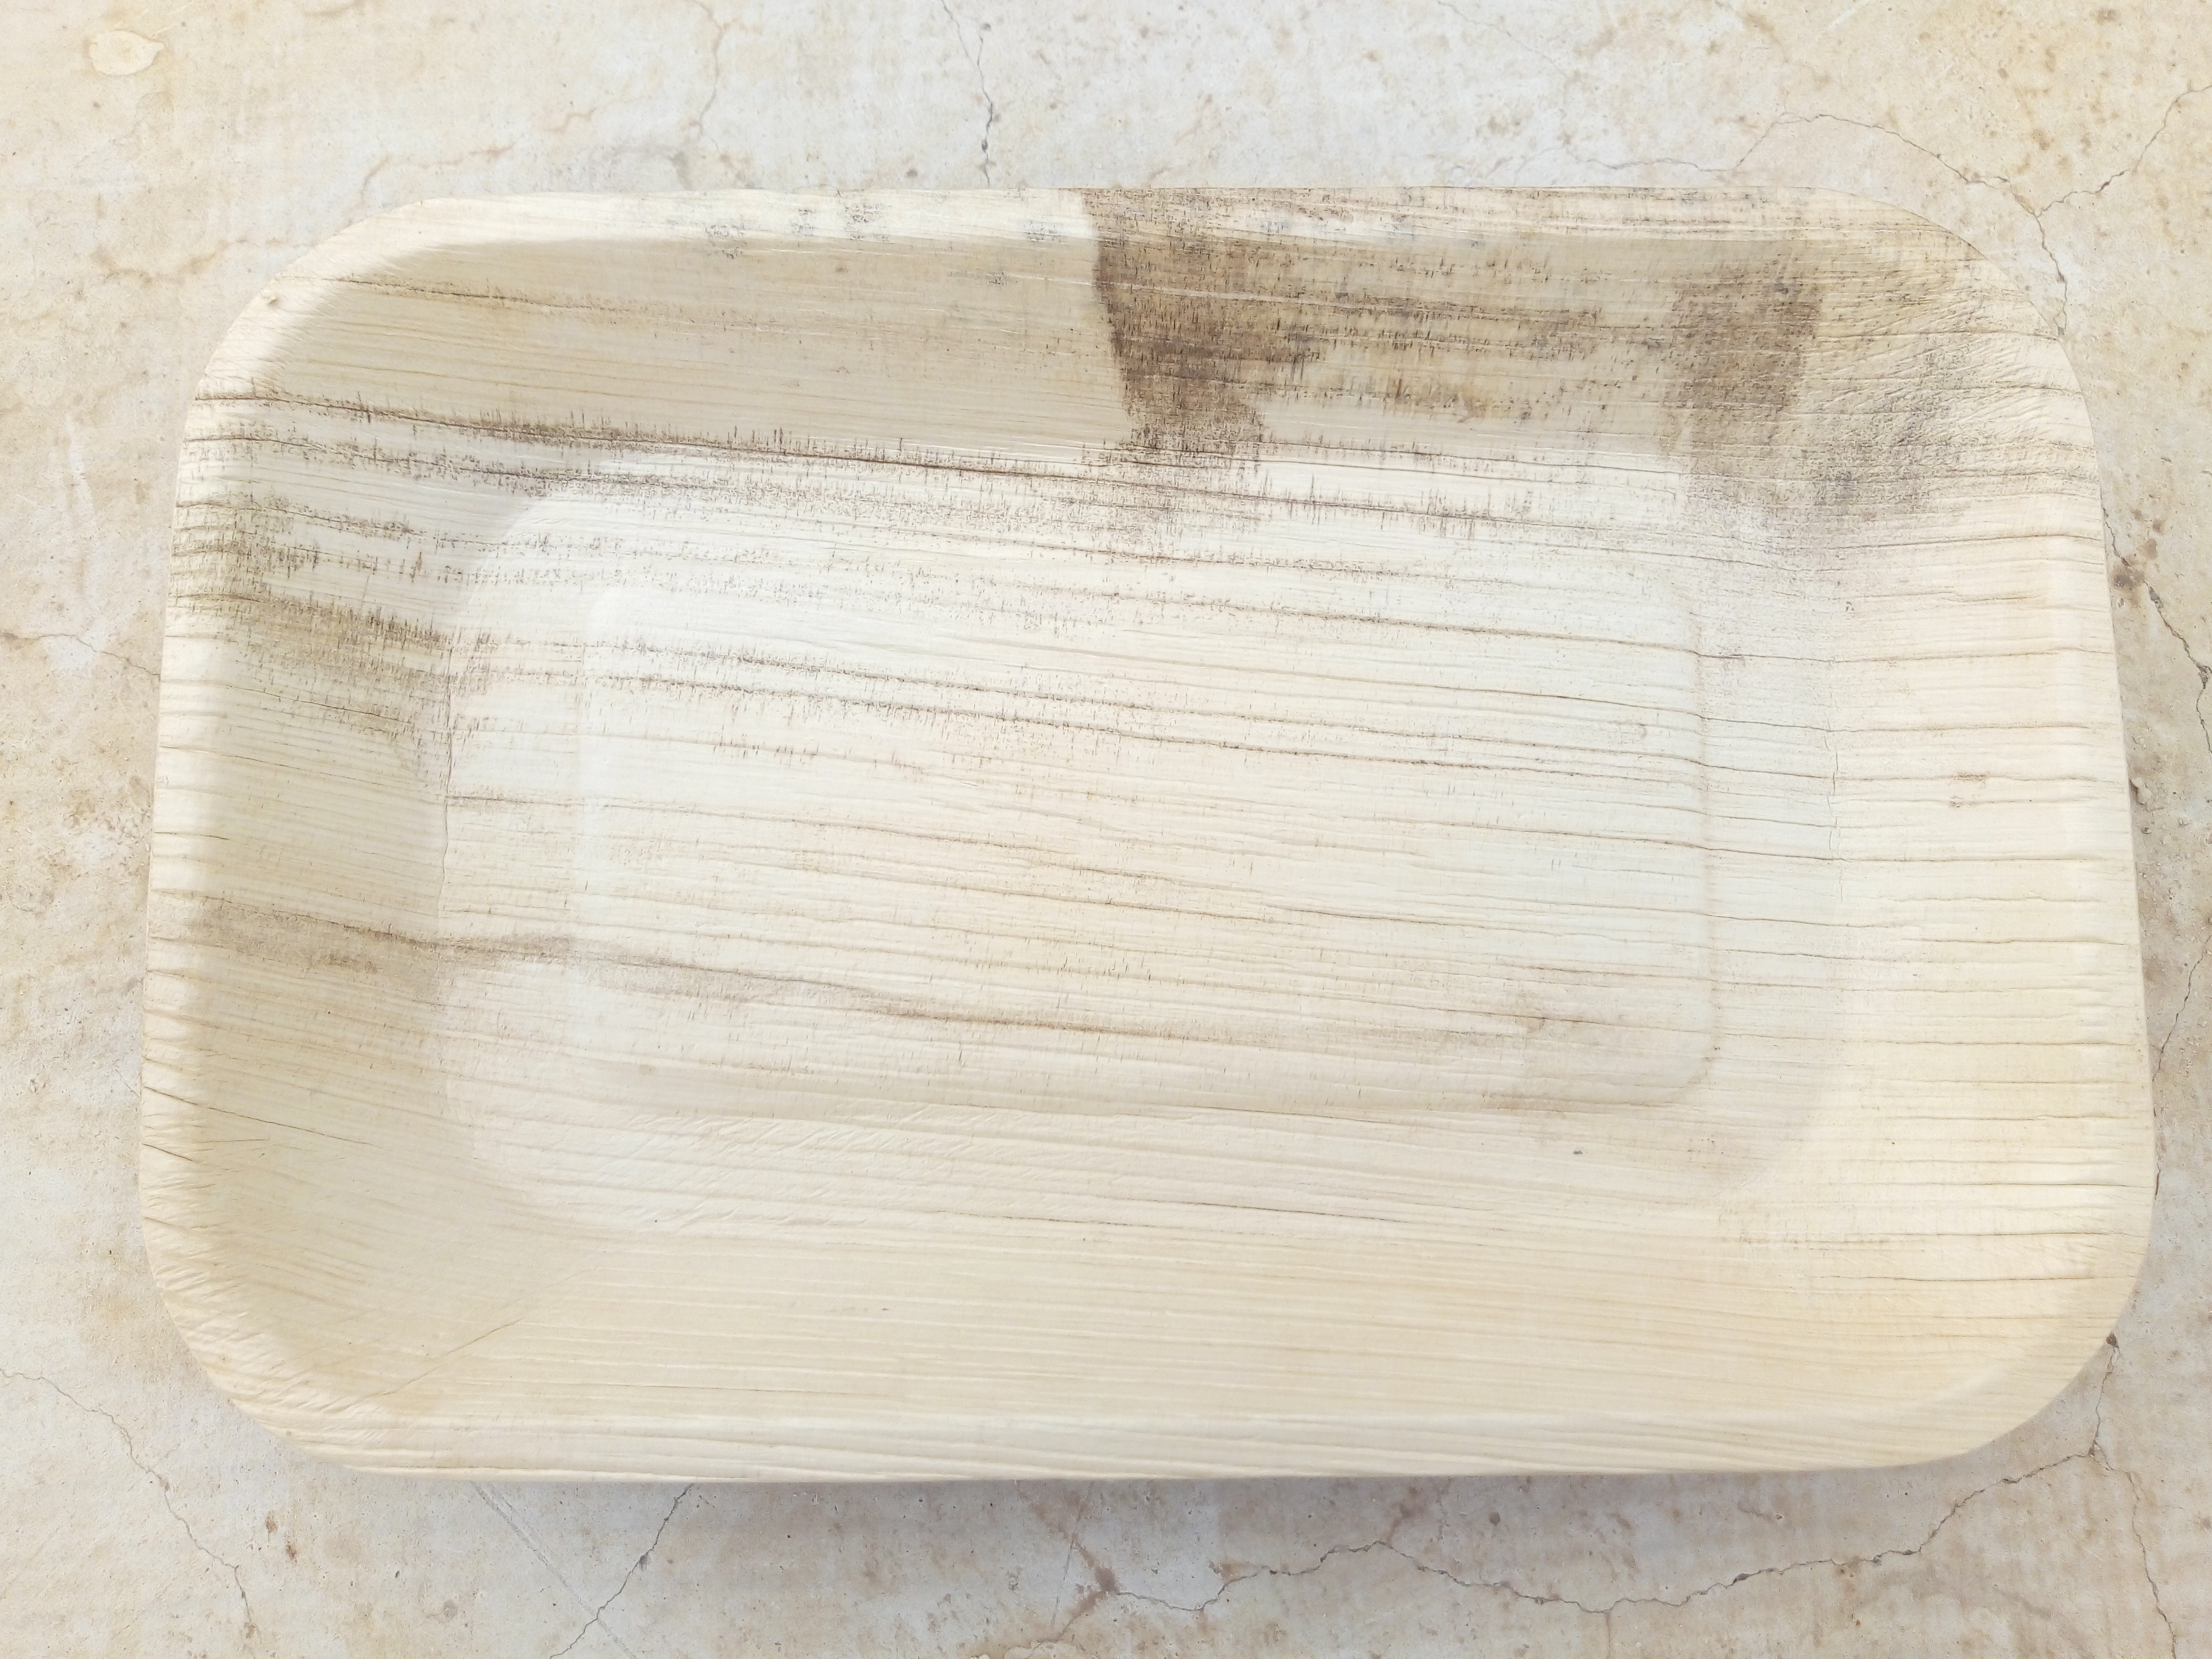areca plate: (155, 199, 2163, 1460)
